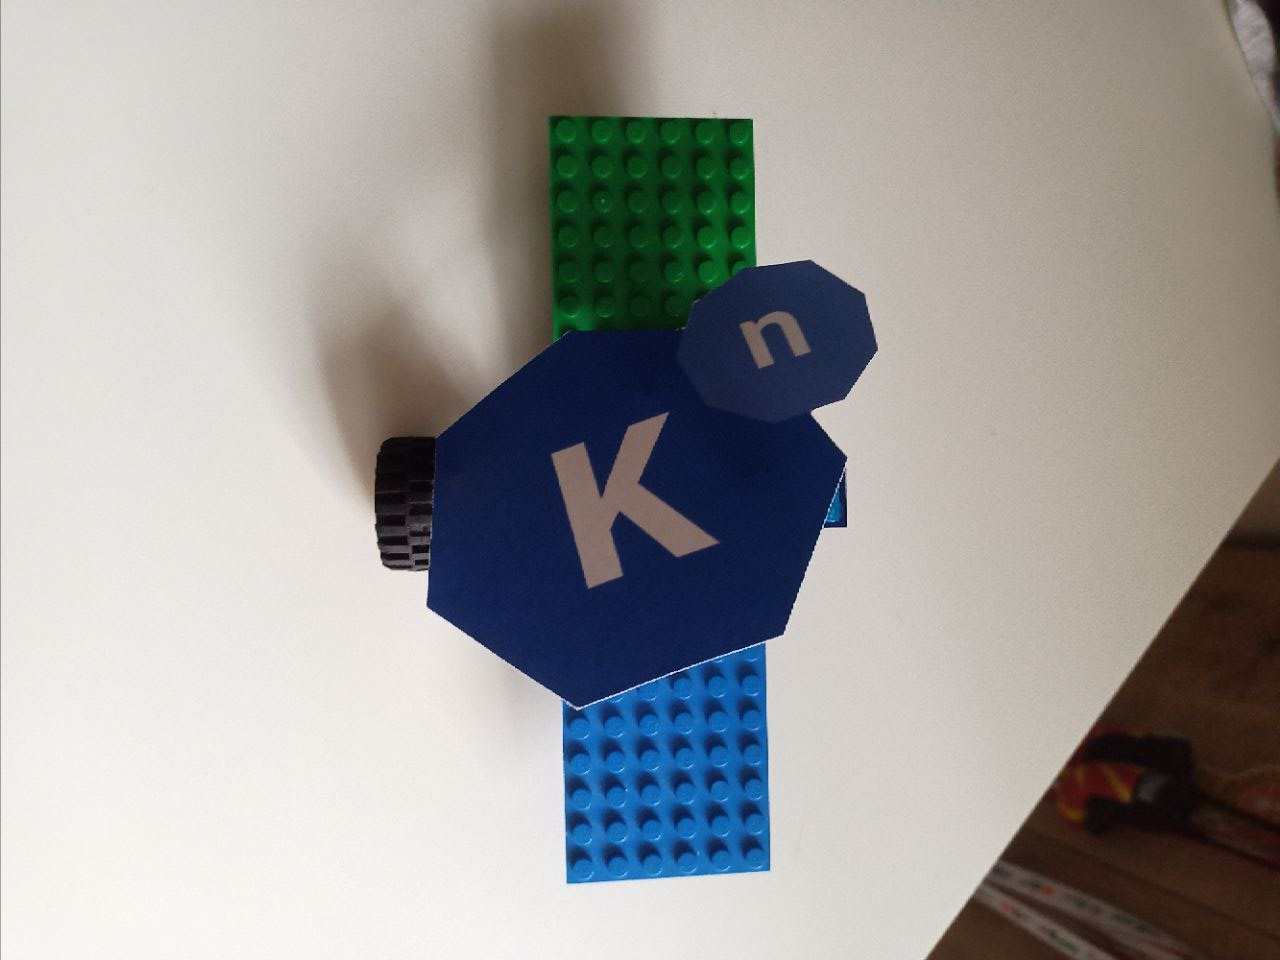knative: (434, 259, 877, 711)
